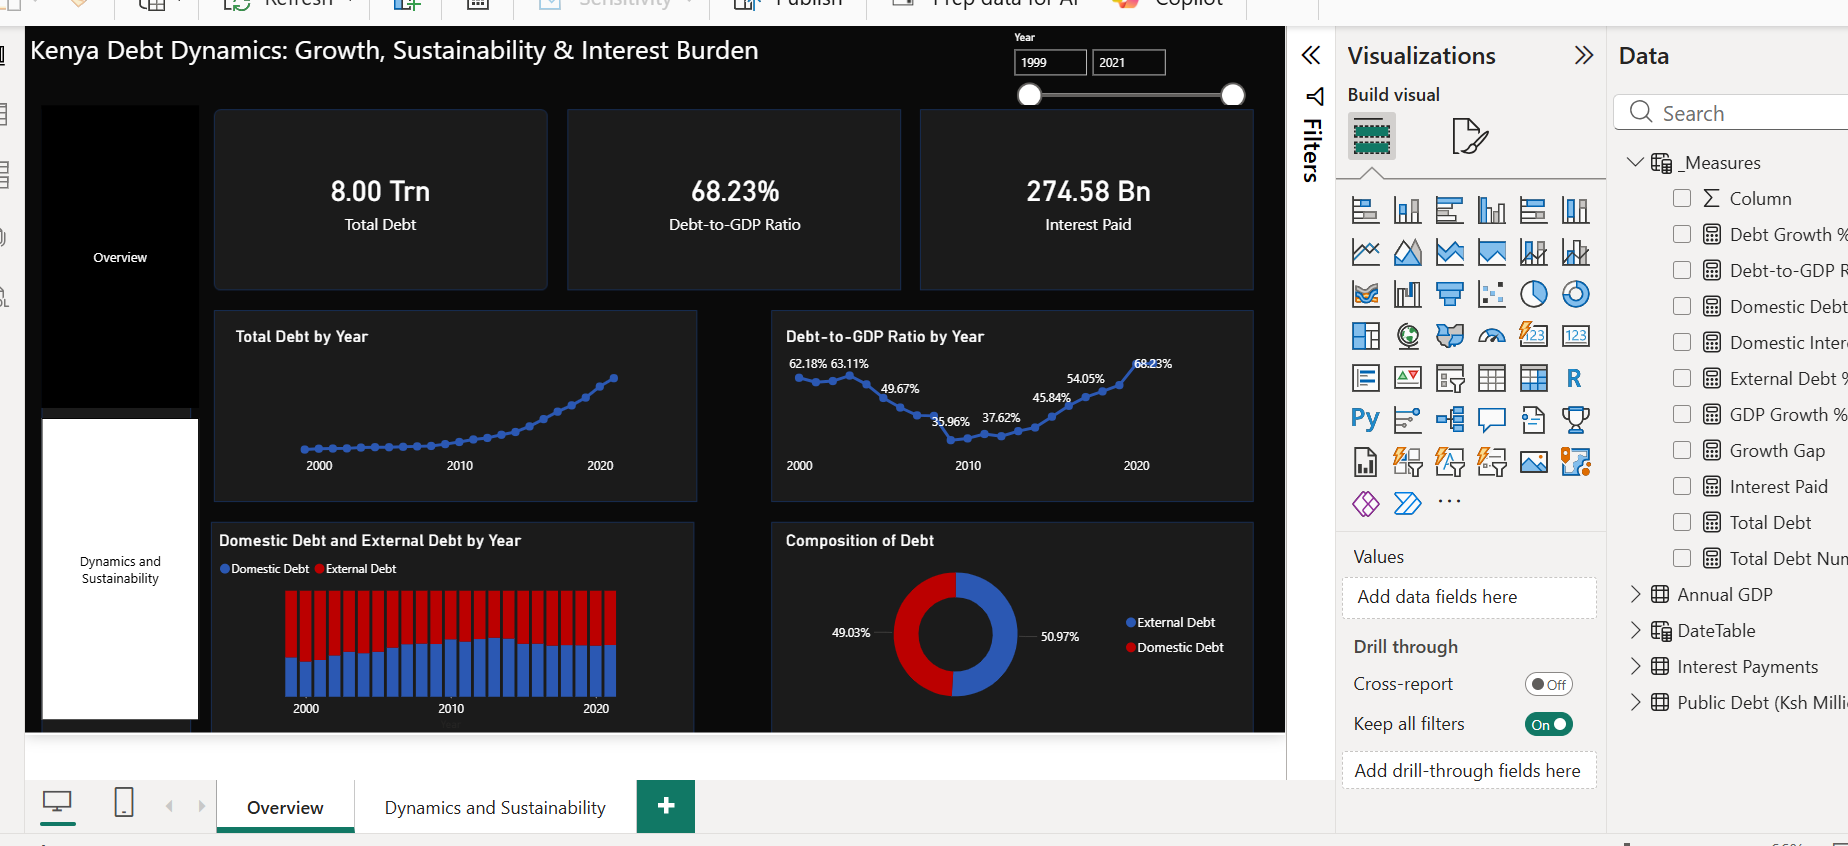

This screenshot's page, from the dashboard's own definition file:
{"tool":"powerbi","page":{"name":"Overview","canvas":[1280,720],"ordinal":0},"visuals":[{"type":"lineChart","fields":{"Category":["Public Debt (Ksh Million).Year"],"Y":["_Measures.Total Debt Numeric"]},"box":[208,304,464,160],"z":1000},{"type":"lineChart","fields":{"Y":["_Measures.Debt-to-GDP Ratio"],"Category":["Public Debt (Ksh Million).Year"]},"box":[768,304,464,160],"z":2000},{"type":"donutChart","title":"Composition of Debt","fields":{"Y":["Sum(Public Debt (Ksh Million).External Debt)","Sum(Public Debt (Ksh Million).Domestic Debt)"]},"box":[768,512,464,192],"z":3000},{"type":"hundredPercentStackedColumnChart","fields":{"Y":["Sum(Public Debt (Ksh Million).Domestic Debt)","Sum(Public Debt (Ksh Million).External Debt)"],"Category":["Public Debt (Ksh Million).Year"]},"box":[192,512,480,208],"z":4000},{"type":"slicer","fields":{"Values":["Public Debt (Ksh Million).Year"]},"box":[992,0,256,80],"z":5000},{"type":"pageNavigator","box":[16,80,160,624],"z":6000},{"type":"textbox","box":[0,0,960,80],"z":7000},{"type":"card","fields":{"Values":["_Measures.Total Debt"]},"box":[208,96,304,160],"z":7001},{"type":"card","fields":{"Values":["_Measures.Debt-to-GDP Ratio"]},"box":[560,96,320,160],"z":7002},{"type":"card","fields":{"Values":["_Measures.Interest Paid"]},"box":[928,96,304,160],"z":7003}]}

Visuals, with their boxes on the page's 1280x720 design canvas (x1, y1, x2, y2). These are canvas units, not pixel positions in the 1848x846 screenshot, which may show the page scaled, cropped or inside an application window:
lineChart - Public Debt (Ksh Million).Year x _Measures.Total Debt Numeric: (208,304,672,464)
lineChart - _Measures.Debt-to-GDP Ratio x Public Debt (Ksh Million).Year: (768,304,1232,464)
"Composition of Debt" donutChart: (768,512,1232,704)
hundredPercentStackedColumnChart - Sum(Public Debt (Ksh Million).Domestic Debt) x Sum(Public Debt (Ksh Million).External Debt): (192,512,672,720)
slicer - Public Debt (Ksh Million).Year: (992,0,1248,80)
pageNavigator: (16,80,176,704)
textbox: (0,0,960,80)
card - _Measures.Total Debt: (208,96,512,256)
card - _Measures.Debt-to-GDP Ratio: (560,96,880,256)
card - _Measures.Interest Paid: (928,96,1232,256)
